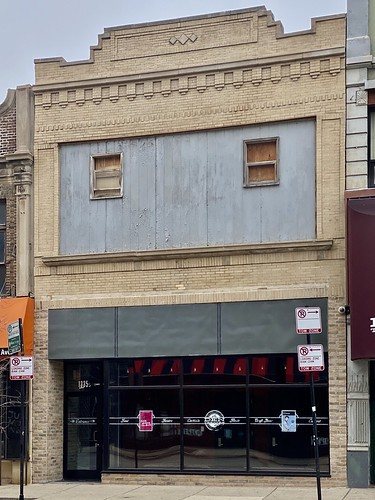building: (35, 17, 353, 483)
